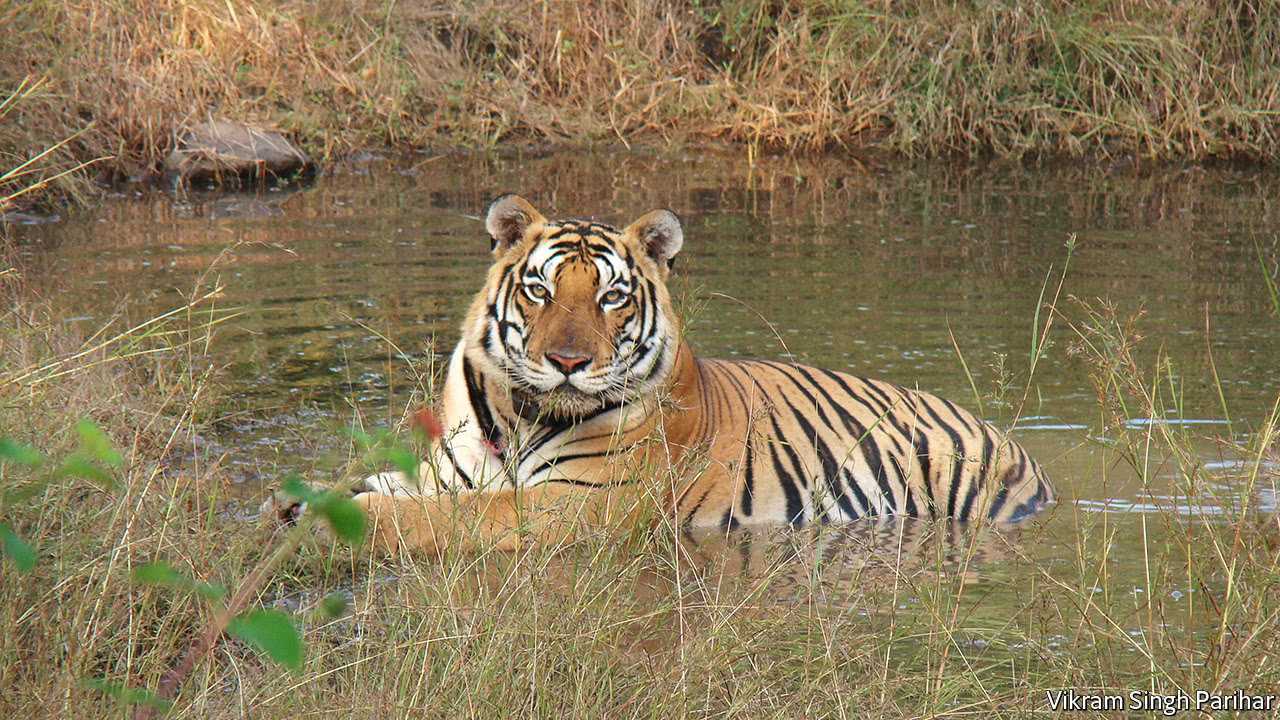Tiger: (301, 129, 1145, 606)
